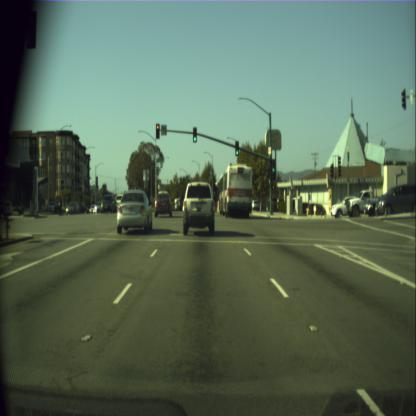Green: (271, 160, 275, 180), (192, 126, 196, 142), (235, 140, 238, 155)
RedLeft: (155, 122, 159, 138)
